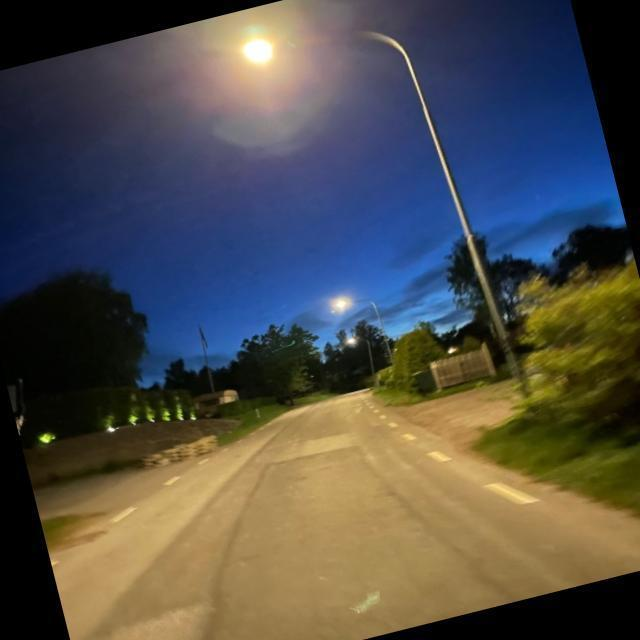on: (220, 0, 306, 108), (332, 268, 382, 352)
